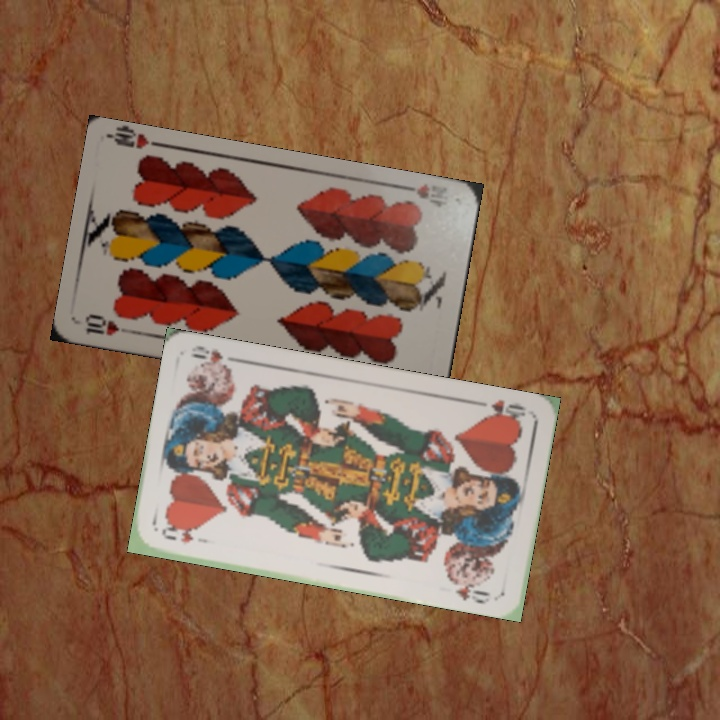H10: (81, 310, 137, 339), (396, 180, 433, 202)
HO: (473, 395, 529, 425), (157, 523, 211, 547)
